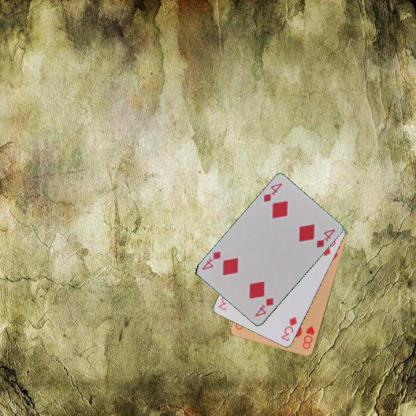3d: (279, 314, 298, 343)
4d: (260, 181, 284, 203), (252, 296, 275, 318)
8h: (300, 324, 315, 350)
